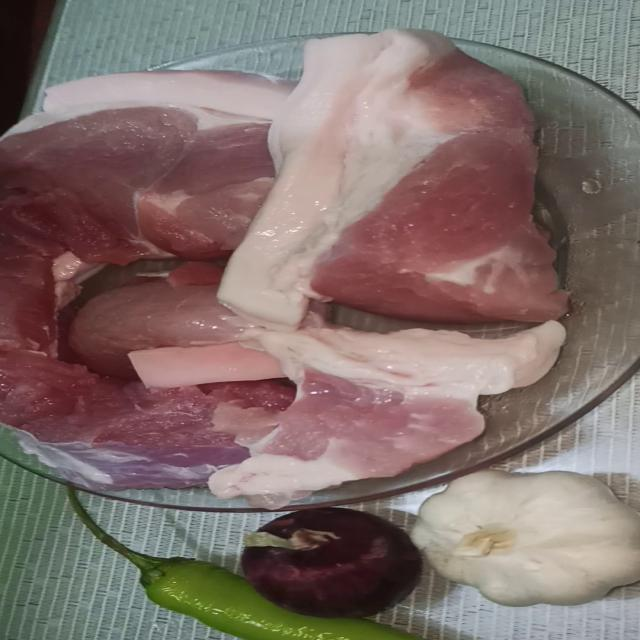chili_pepper: (0, 555, 495, 640)
garlic: (427, 463, 631, 600)
onion: (219, 513, 430, 605)
pork: (234, 30, 578, 325), (183, 320, 640, 486), (18, 45, 255, 247), (0, 323, 273, 495), (33, 275, 285, 367)
